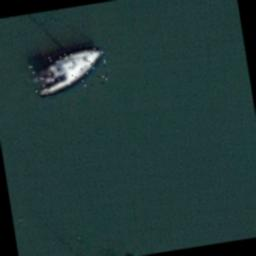boat: (28, 46, 109, 96)
